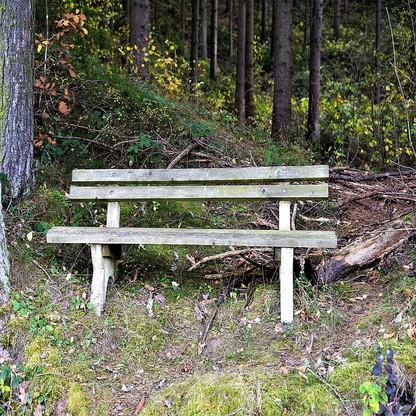obstacle: (44, 157, 345, 331)
